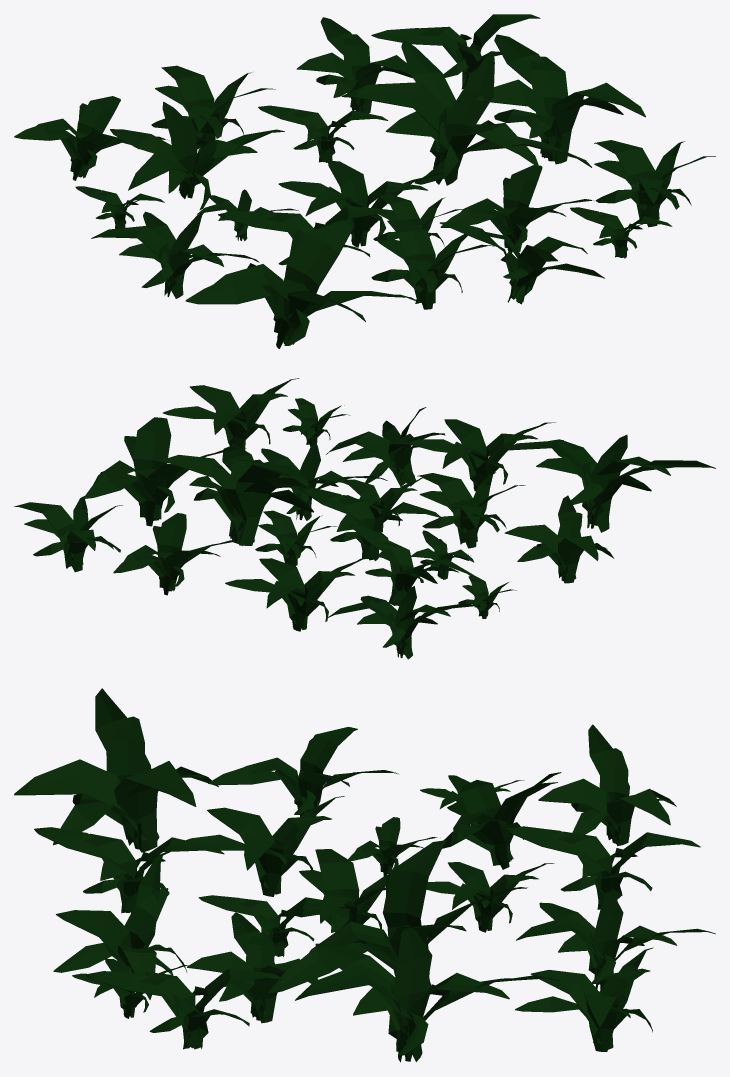
The model's file is gewas_terrein.obj.
3 views of the same model, one above another, from view 1: azimuth 30°, elevation 25°; view 2: azimuth 150°, elevation 25°; view 3: azimuth 270°, elevation 25° (orthographic). The views are drawn at different scales.
Parts seen in each view (by area): view 1: Plane.019, Plane.002, Plane.008, Plane.014, Plane.015, Plane.010, Plane.011, Plane.001, Plane, Plane.017, Plane.009, Plane.013 (+8 smaller); view 2: Plane.019, Plane.002, Plane.008, Plane.013, Plane.015, Plane.001, Plane.010, Plane.004, Plane.007, Plane.011, Plane.017, Plane.003 (+8 smaller); view 3: Plane.002, Plane.008, Plane.019, Plane.003, Plane.017, Plane.004, Plane.007, Plane.011, Plane.010, Plane.013, Plane.001, Plane.015 (+8 smaller).
Boxes of the visible parts, left/top/right/bottom form: Plane.019: left=341, top=39, right=591, bottom=185; Plane.002: left=185, top=220, right=418, bottom=348; Plane.008: left=475, top=34, right=645, bottom=164; Plane.014: left=110, top=101, right=284, bottom=209; Plane.015: left=91, top=211, right=259, bottom=298; Plane.010: left=594, top=140, right=715, bottom=227; Plane.011: left=296, top=17, right=412, bottom=113; Plane.001: left=371, top=219, right=496, bottom=309; Plane: left=278, top=160, right=452, bottom=247; Plane.017: left=14, top=96, right=168, bottom=180; Plane.009: left=440, top=165, right=593, bottom=252; Plane.013: left=151, top=65, right=275, bottom=149; Plane.019: left=160, top=444, right=313, bottom=545; Plane.002: left=496, top=434, right=715, bottom=532; Plane.008: left=83, top=417, right=246, bottom=526; Plane.013: left=225, top=558, right=370, bottom=631; Plane.015: left=504, top=495, right=614, bottom=583; Plane.001: left=407, top=419, right=555, bottom=491; Plane.010: left=163, top=378, right=299, bottom=450; Plane.004: left=417, top=472, right=525, bottom=548; Plane.007: left=14, top=496, right=122, bottom=572; Plane.011: left=113, top=513, right=238, bottom=595; Plane.017: left=327, top=586, right=480, bottom=659; Plane.003: left=326, top=407, right=445, bottom=486; Plane.002: left=14, top=688, right=218, bottom=852; Plane.008: left=295, top=925, right=559, bottom=1062; Plane.019: left=268, top=840, right=527, bottom=994; Plane.003: left=53, top=854, right=186, bottom=999; Plane.017: left=538, top=724, right=676, bottom=846; Plane.004: left=186, top=796, right=344, bottom=896; Plane.007: left=515, top=947, right=653, bottom=1051; Plane.011: left=516, top=891, right=715, bottom=989; Plane.010: left=85, top=968, right=283, bottom=1049; Plane.013: left=506, top=826, right=700, bottom=909; Plane.001: left=34, top=827, right=224, bottom=913; Plane.015: left=208, top=727, right=398, bottom=816.
Bounding box in the file's own units: 10.6 × 2.22 × 9.99.
